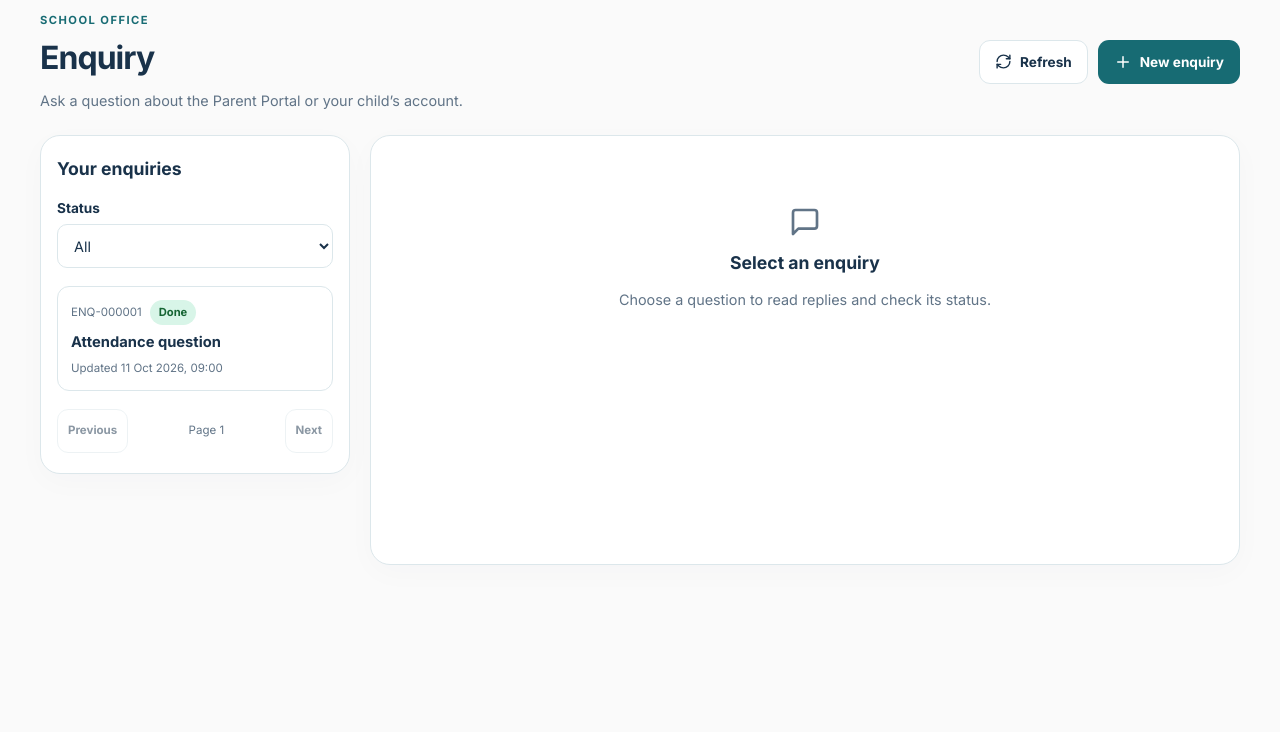
Scenario: Done conversations remove the reply form and explain how to ask again
Click the button with class "enquiry-row": (195, 339) 57,286 -> 333,391
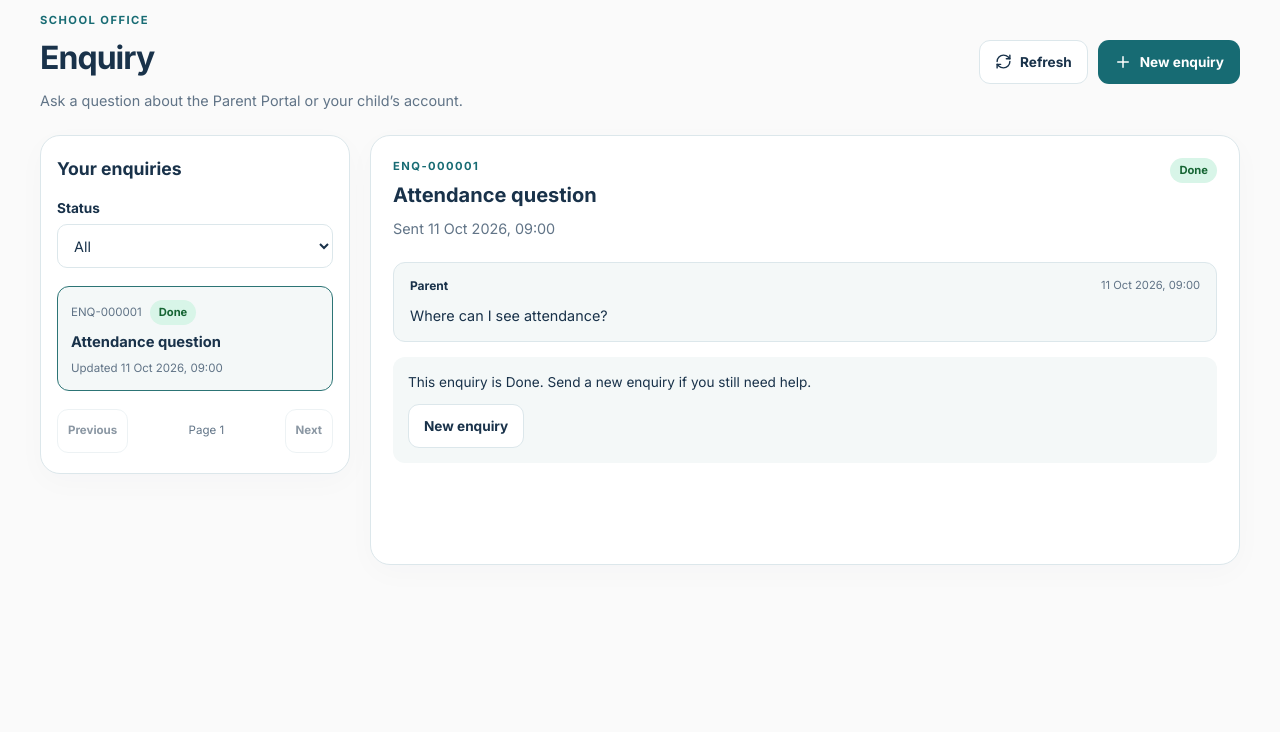
Now the text "This enquiry is Done. Send a new enquiry if you still need help." is shown, box 408,374 -> 811,390
